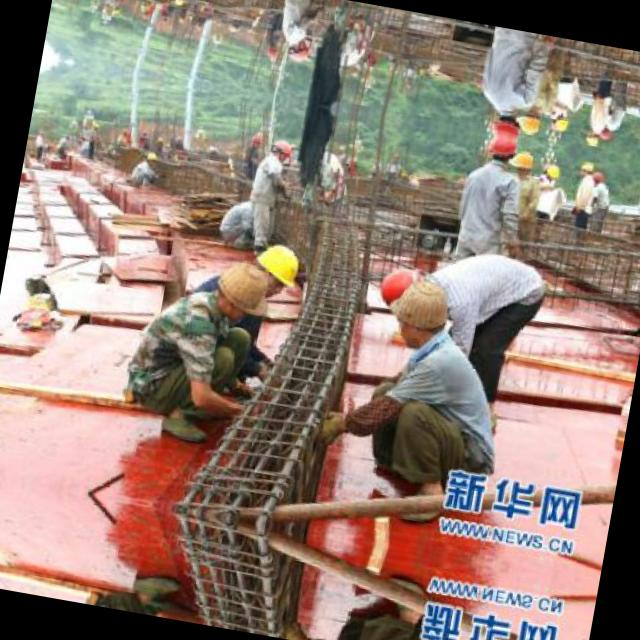helmet: (243, 235, 306, 302), (374, 256, 426, 308), (486, 108, 526, 138), (482, 136, 520, 166), (280, 31, 312, 64), (262, 134, 294, 166), (506, 145, 537, 178), (514, 102, 544, 136), (542, 157, 561, 181), (550, 111, 569, 135), (578, 156, 596, 178), (584, 126, 602, 148), (596, 123, 614, 142), (588, 166, 606, 184)
